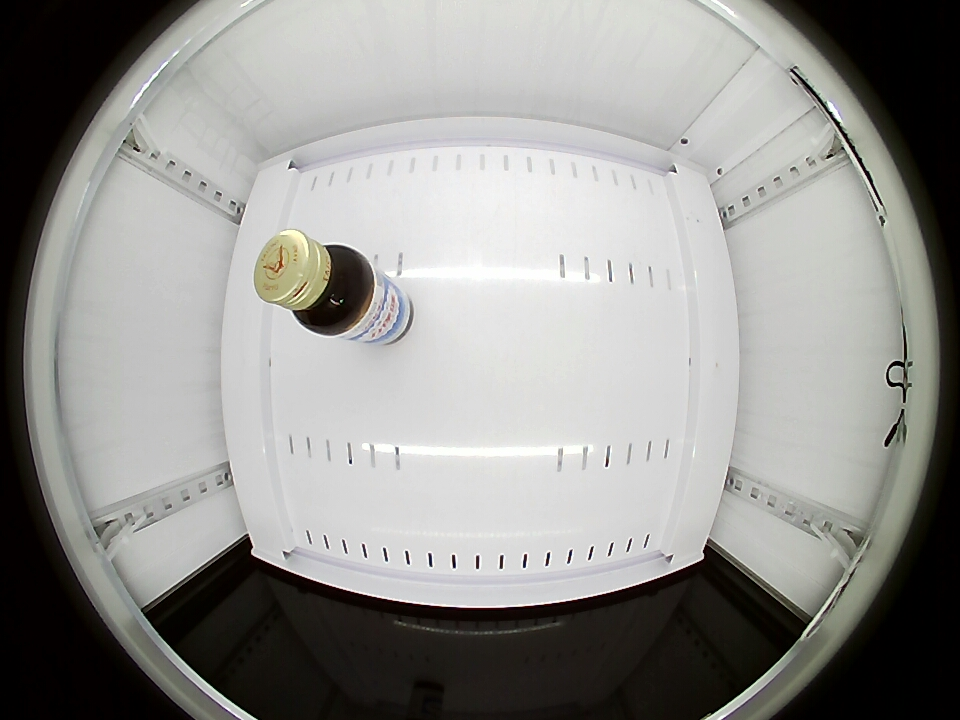libaojian: (253, 230, 374, 336)
